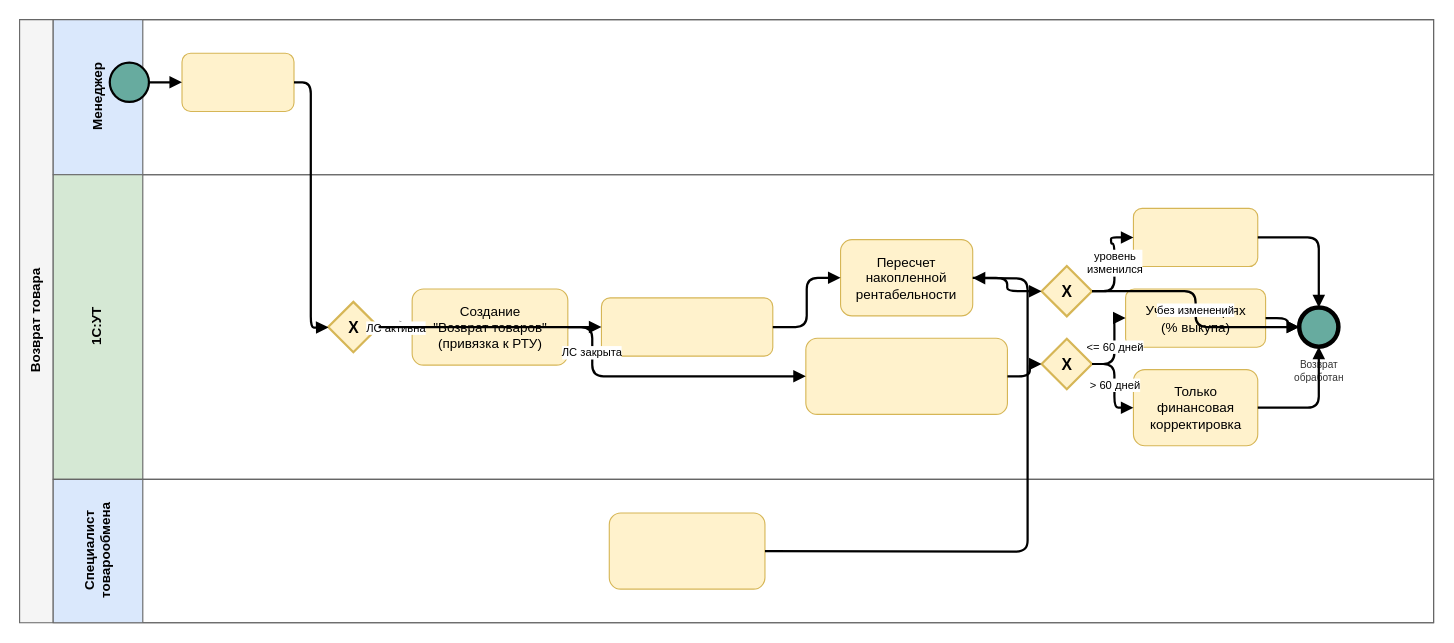
The diagram is 1454 pixels wide and 643 high, and some of its shapes have lost their labels. Each missing label, with the centre of its shape:
"Аннулирование согласований" belongs at point 1195,237.
"Возврат по закрытой ЛС (товар в своб. остаток)" belongs at point 906,375.
"Инициация возврата" belongs at point 237,81.
"Сторнирование РТУ (товар не покидал склад)" belongs at point 686,550.
"Товар в остаток ЛС (рент. по цене РТУ)" belongs at point 686,326.
